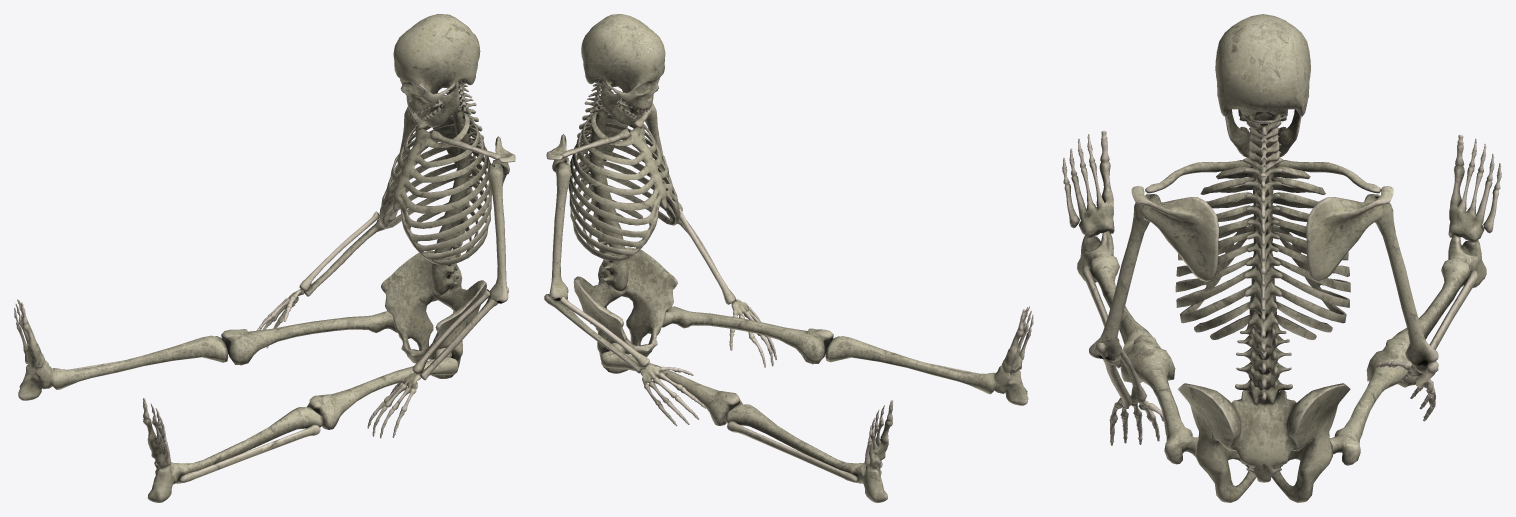
File: SM_SittingSkeleton.fbx
The picture shows the model from 3 angles, left to right: view 1: azimuth 30°, elevation 25°; view 2: azimuth 150°, elevation 25°; view 3: azimuth 270°, elevation 25°; orthographic projection. The views are drawn at different scales.
Parts seen in each view (by area): view 1: SM_SittingSkeleton_LOD0; view 2: SM_SittingSkeleton_LOD0; view 3: SM_SittingSkeleton_LOD0.
Boxes of the visible parts, x1=… form: SM_SittingSkeleton_LOD0: x1=14, y1=14, x2=515, y2=502; SM_SittingSkeleton_LOD0: x1=544, y1=14, x2=1033, y2=502; SM_SittingSkeleton_LOD0: x1=1062, y1=14, x2=1501, y2=502.
Size of the model in its own units: 110 by 75.5 by 94.7.
Materials: 1 (1 with a texture image).
